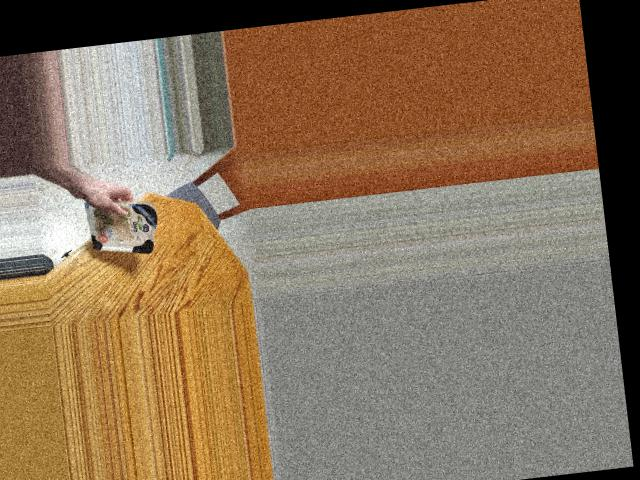cheese: (81, 188, 162, 260)
